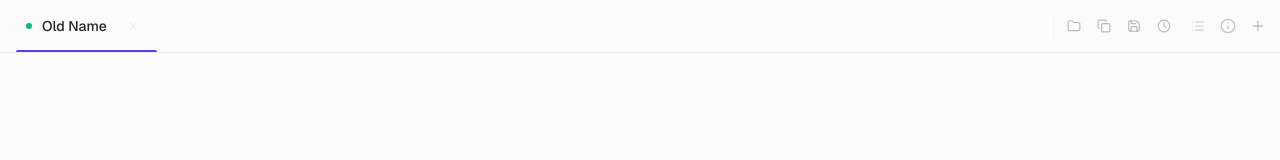
Test: RequestTabBar — request rename › shows an inline input when the tab label is double-clicked
Double-click the tab "Old Name" at coordinates (86, 26), box [6, 0, 167, 52]
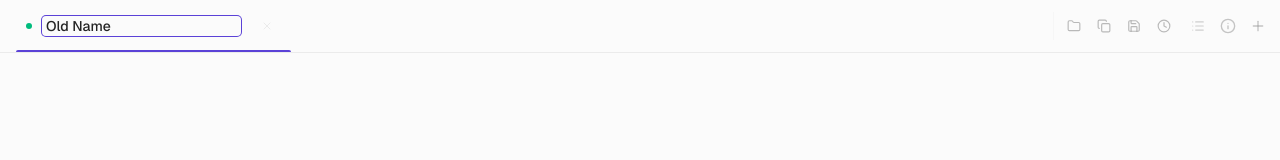
Expected: the field showing "Old Name" is shown, [42, 16, 241, 36]
